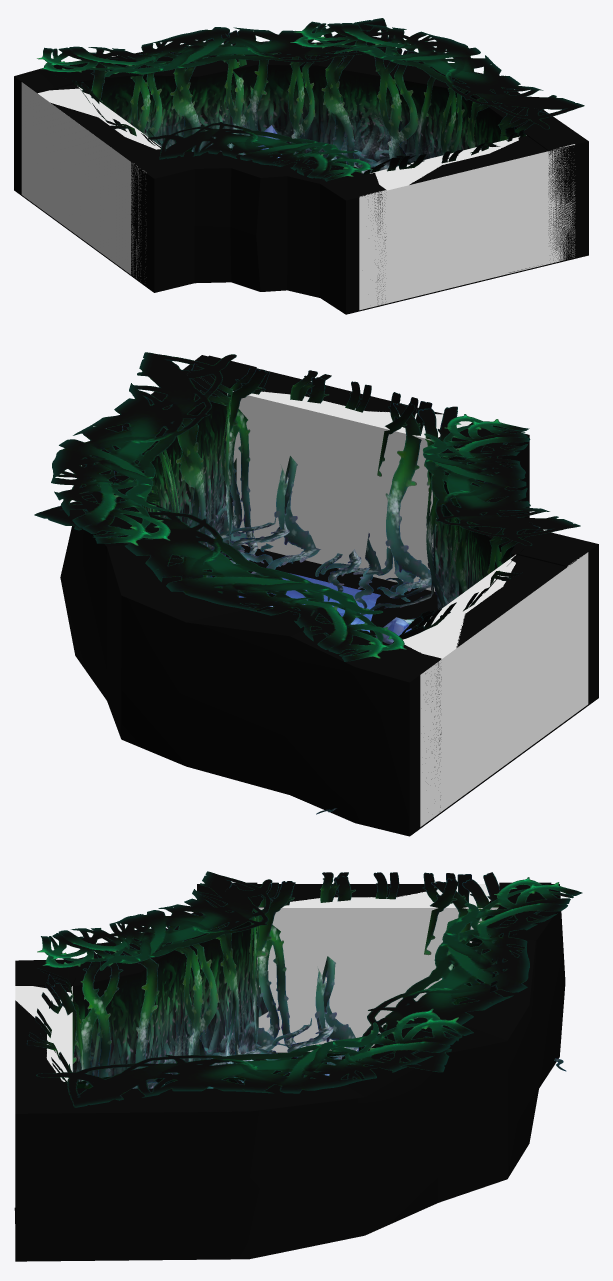
Rendered from Dungeon_012_RoadL_002.fbx.
3 views of the same model, one above another, from view 1: azimuth 30°, elevation 25°; view 2: azimuth 150°, elevation 25°; view 3: azimuth 270°, elevation 25° (orthographic). The views are drawn at different scales.
Parts seen in each view (by area): view 1: Dan1, DoorWay_NavMask (1) (×2), Dungeon_021_Tsuta_002, Dungeon_021_Tsuta_001, un_021_Door_002 (×2), DoorWay_NavMask (×2), un_021_Door_002_Object1 (×2); view 2: Dan1, Dungeon_021_Tsuta_002, DoorWay_NavMask (×2), DoorWay_NavMask (1), un_021_Door_002_Object1 (×2), Dungeon_021_Tsuta_001, un_021_Door_002 (×2), Dan1_shadow, Dun_011_Door_002_shadow, Dan2; view 3: Dan1, Dungeon_021_Tsuta_002, DoorWay_NavMask (×2), un_021_Door_002_Object1 (×2), Dungeon_021_Tsuta_001, un_021_Door_002 (×2), DoorWay_NavMask (1).
Part boxes in pixels (bbox=[...]): Dan1: bbox=[14, 41, 588, 314]; DoorWay_NavMask (1) (×2): bbox=[21, 82, 575, 310]; Dungeon_021_Tsuta_002: bbox=[37, 18, 584, 181]; Dungeon_021_Tsuta_001: bbox=[91, 30, 547, 173]; un_021_Door_002 (×2): bbox=[17, 72, 582, 304]; DoorWay_NavMask (×2): bbox=[38, 86, 526, 187]; un_021_Door_002_Object1 (×2): bbox=[72, 79, 526, 174]; Dan1: bbox=[60, 355, 598, 836]; Dungeon_021_Tsuta_002: bbox=[34, 352, 580, 661]; DoorWay_NavMask (×2): bbox=[227, 391, 515, 658]; DoorWay_NavMask (1): bbox=[410, 552, 588, 826]; un_021_Door_002_Object1 (×2): bbox=[219, 368, 524, 814]; Dungeon_021_Tsuta_001: bbox=[113, 363, 540, 637]; un_021_Door_002 (×2): bbox=[189, 355, 594, 812]; Dan1_shadow: bbox=[206, 545, 437, 635]; Dun_011_Door_002_shadow: bbox=[275, 555, 395, 594]; Dan2: bbox=[238, 573, 380, 632]; Dan1: bbox=[15, 884, 565, 1261]; Dungeon_021_Tsuta_002: bbox=[36, 871, 582, 1107]; DoorWay_NavMask (×2): bbox=[46, 884, 499, 1081]; un_021_Door_002_Object1 (×2): bbox=[26, 872, 566, 1083]; Dungeon_021_Tsuta_001: bbox=[76, 883, 527, 1088]; un_021_Door_002 (×2): bbox=[15, 882, 551, 1109]; DoorWay_NavMask (1): bbox=[15, 986, 55, 1069].
Size of what is drawn, in the model's own units: 7.27 by 2.36 by 7.25.
